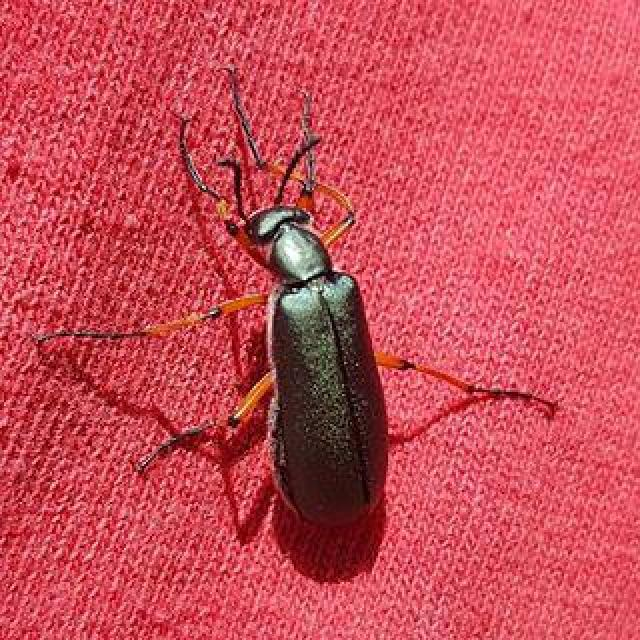BlisterBeetle-Adult-: (84, 64, 513, 535)
